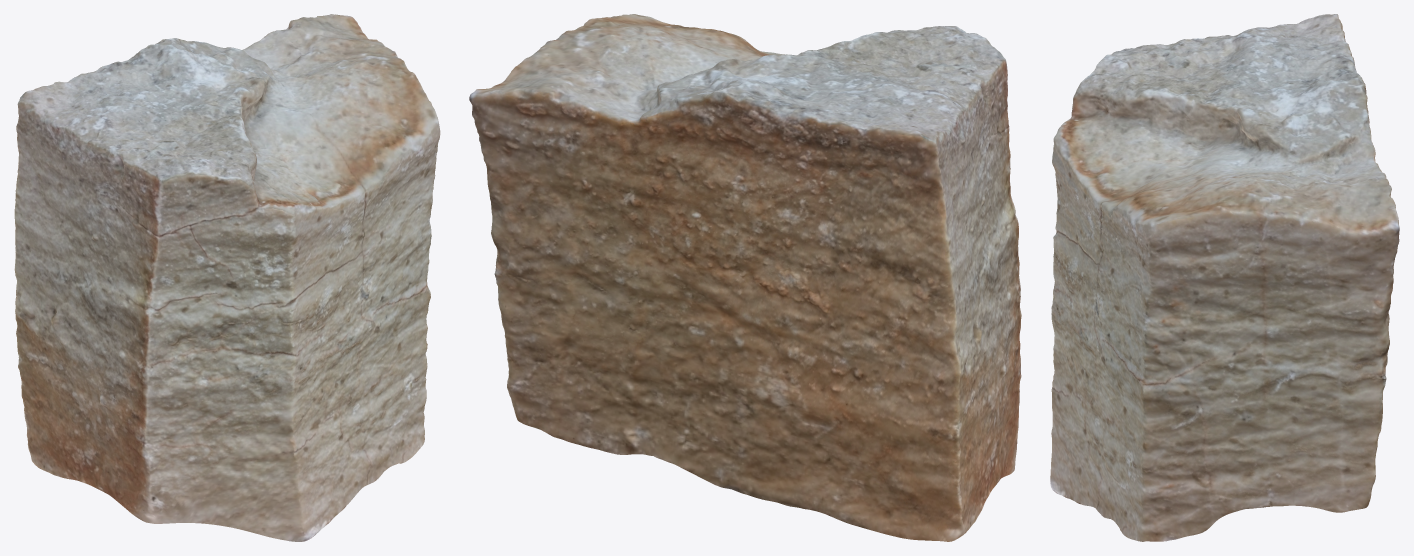
File: gypsum-centered.glb
The picture shows the model from 3 angles, left to right: view 1: azimuth 30°, elevation 25°; view 2: azimuth 150°, elevation 25°; view 3: azimuth 270°, elevation 25°; orthographic projection. The views are drawn at different scales.
Parts seen in each view (by area): view 1: Object_2, Object_3; view 2: Object_2, Object_3; view 3: Object_2, Object_3.
Boxes of the visible parts, x1,y1,x2,y2 form: Object_2: (22, 14, 440, 540); Object_3: (14, 15, 433, 541); Object_2: (469, 14, 1010, 420); Object_3: (472, 14, 1021, 541); Object_2: (1051, 14, 1399, 541); Object_3: (1050, 14, 1399, 540).
Bounding box in the file's own units: 2.49 × 2.48 × 1.91.
Materials: 1 (1 with a texture image).
